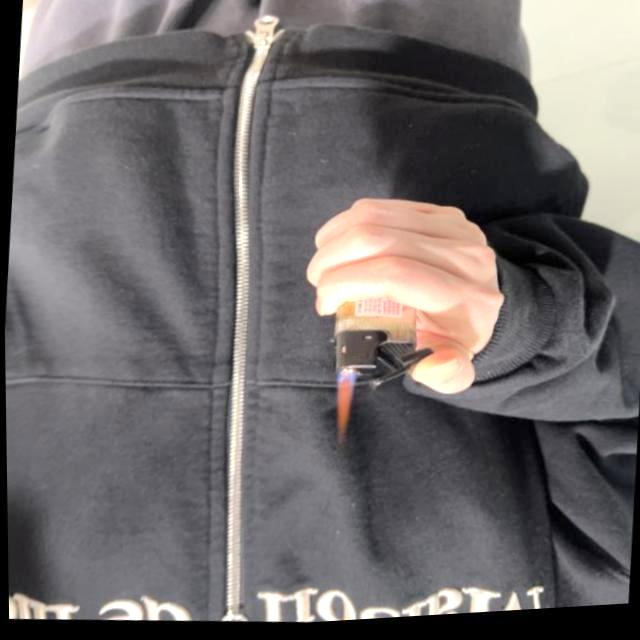fire: (330, 374, 350, 450)
